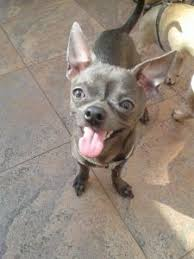chihuahua: (41, 2, 183, 228)
